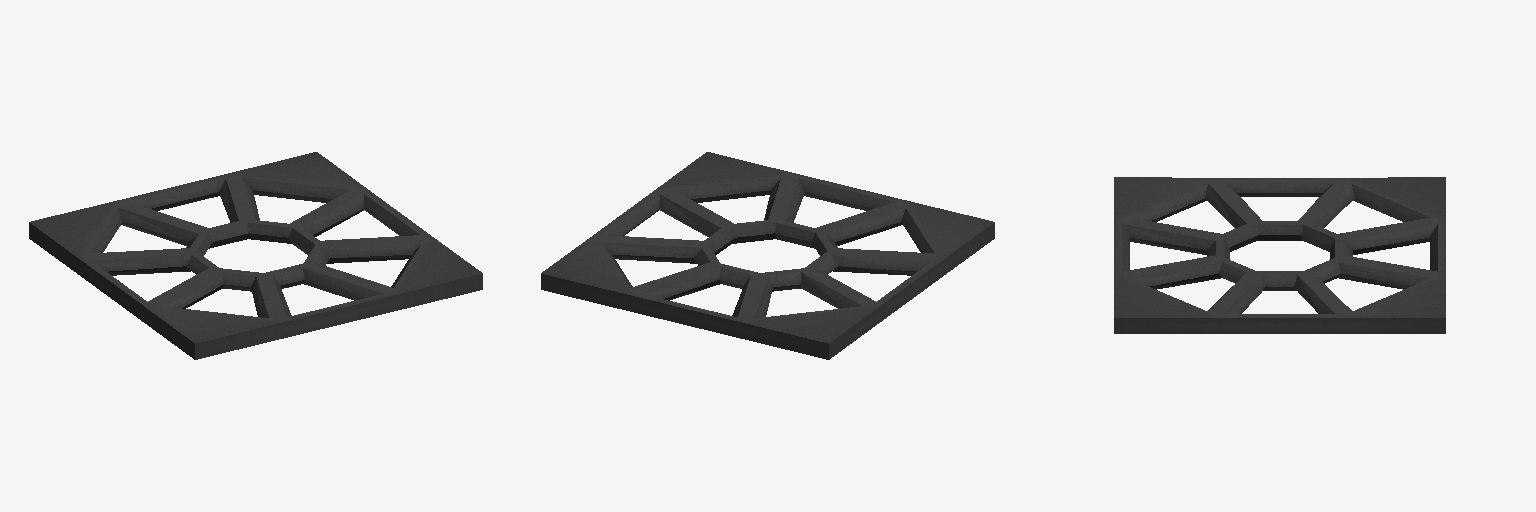
3 renders of one model, left to right at view 1: azimuth 30°, elevation 25°; view 2: azimuth 150°, elevation 25°; view 3: azimuth 270°, elevation 25°, orthographic.
Visible parts, largest first — view 1: grate-8; view 2: grate-8; view 3: grate-8.
Part boxes in pixels (x1,y1,x2,y2): grate-8: (29, 152, 482, 359); grate-8: (541, 152, 994, 359); grate-8: (1114, 177, 1445, 333).
Bounding box in the file's own units: 4.01 × 0.2197 × 4.01.
1 materials, 1 textured.